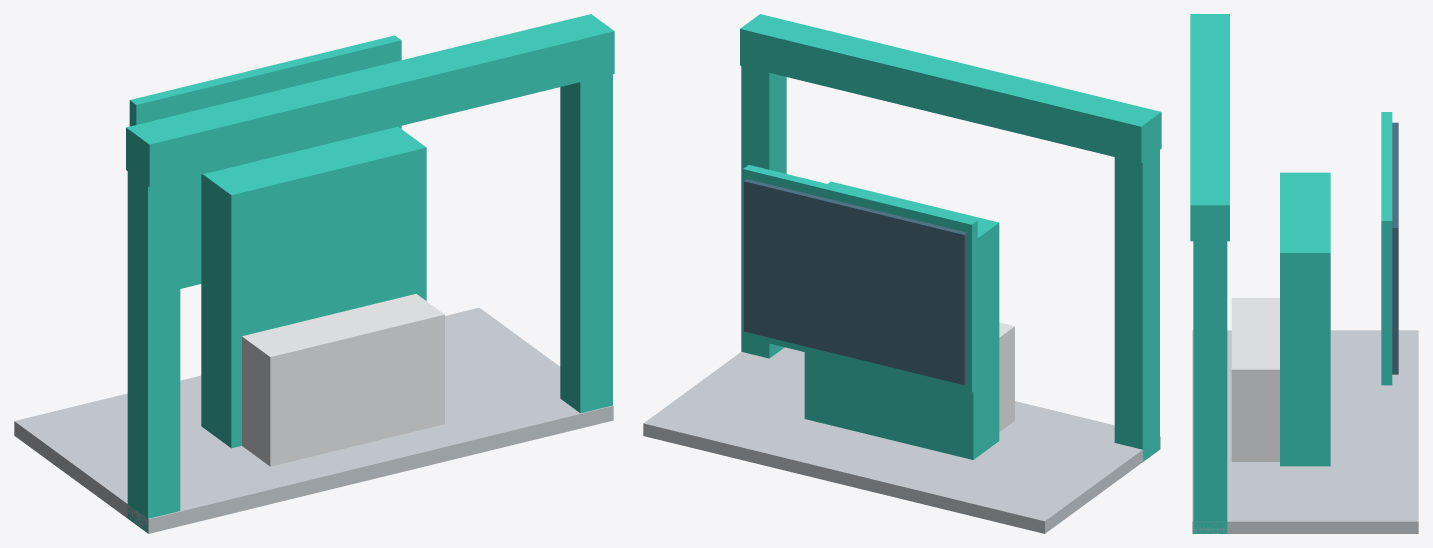
3 views of the same model, side by side, from view 1: azimuth 30°, elevation 25°; view 2: azimuth 150°, elevation 25°; view 3: azimuth 270°, elevation 25° (orthographic). The views are drawn at different scales.
Parts seen in each view (by area): view 1: Exhibition Booth Concept; view 2: Exhibition Booth Concept; view 3: Exhibition Booth Concept.
Boxes of the visible parts, x1,y1,x2,y2 form: Exhibition Booth Concept: (14,14,614,533); Exhibition Booth Concept: (643,14,1161,533); Exhibition Booth Concept: (1190,14,1418,533).
Bounding box in the file's own units: 4 × 3.2 × 2.01.
